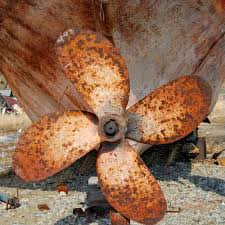rust: (49, 24, 134, 101), (8, 112, 85, 181), (143, 77, 210, 140), (98, 173, 171, 225)
